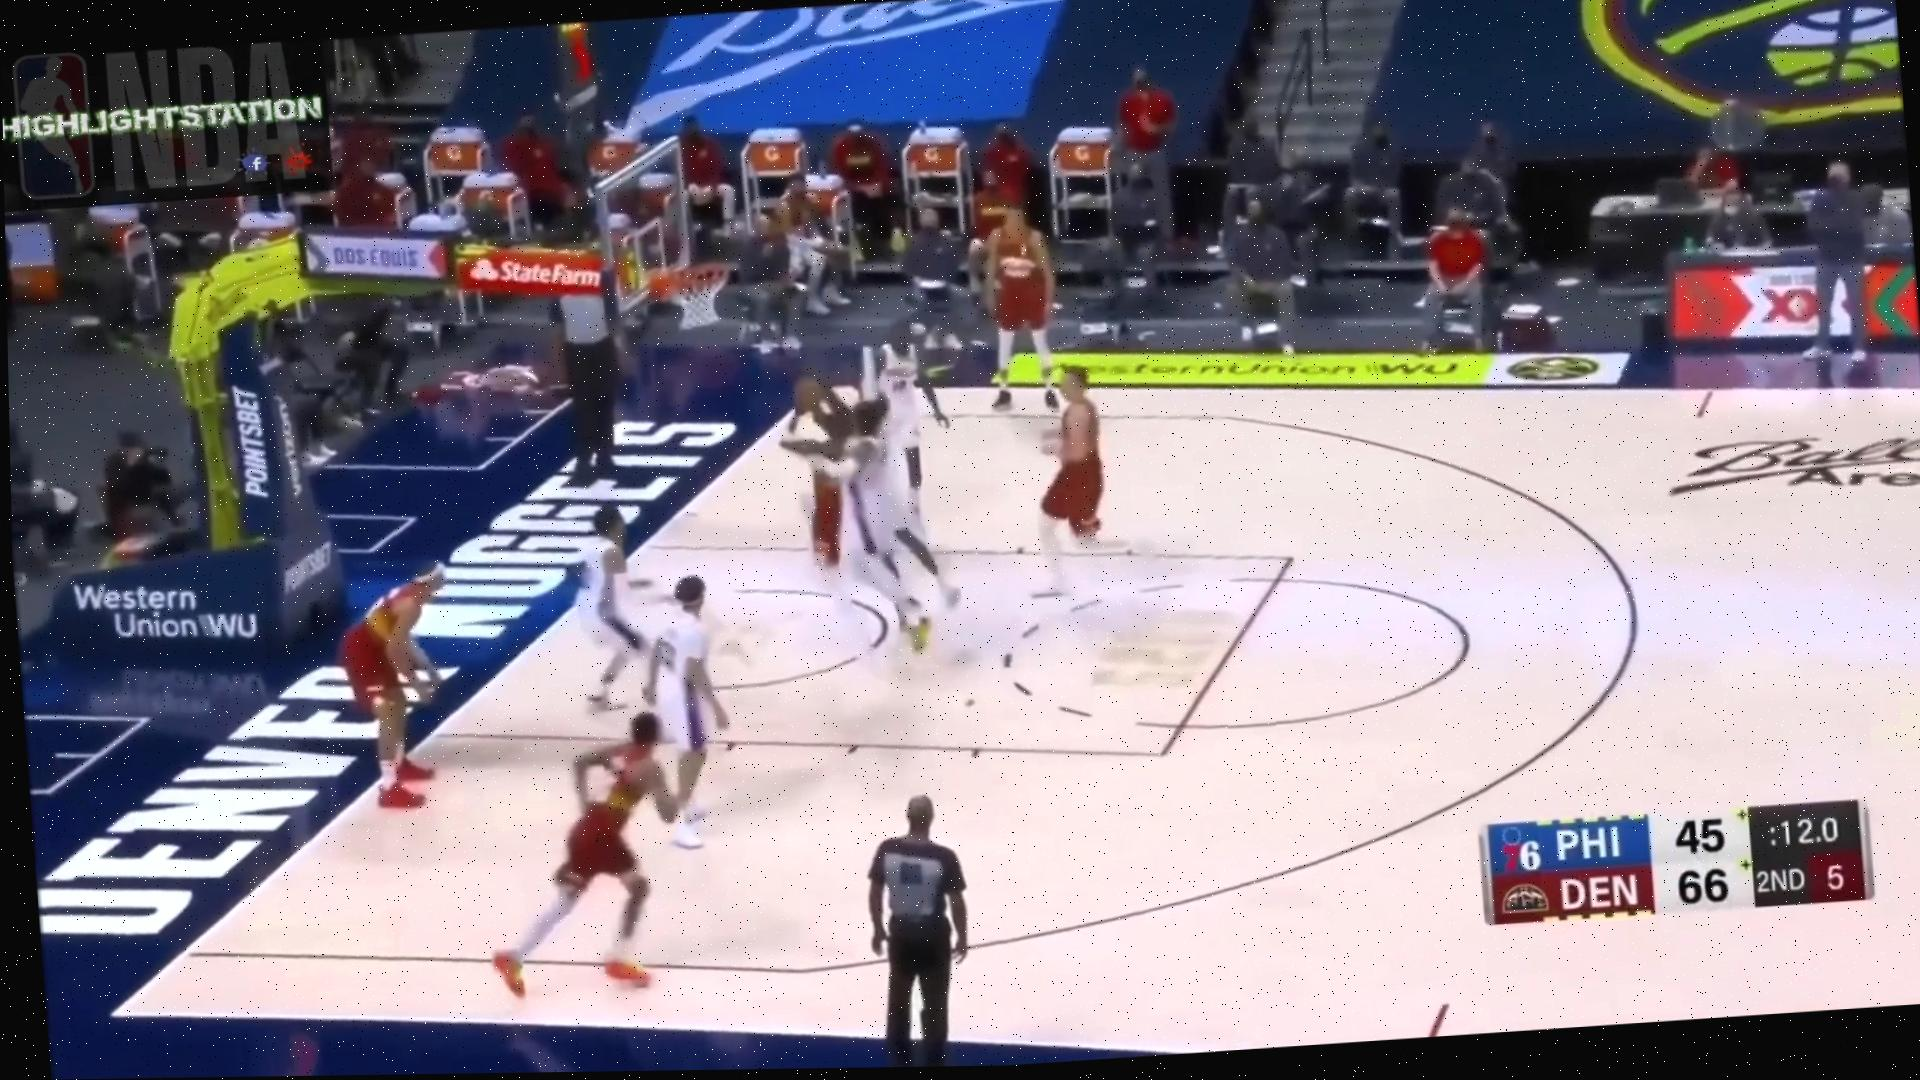foul: (786, 385, 948, 666)
